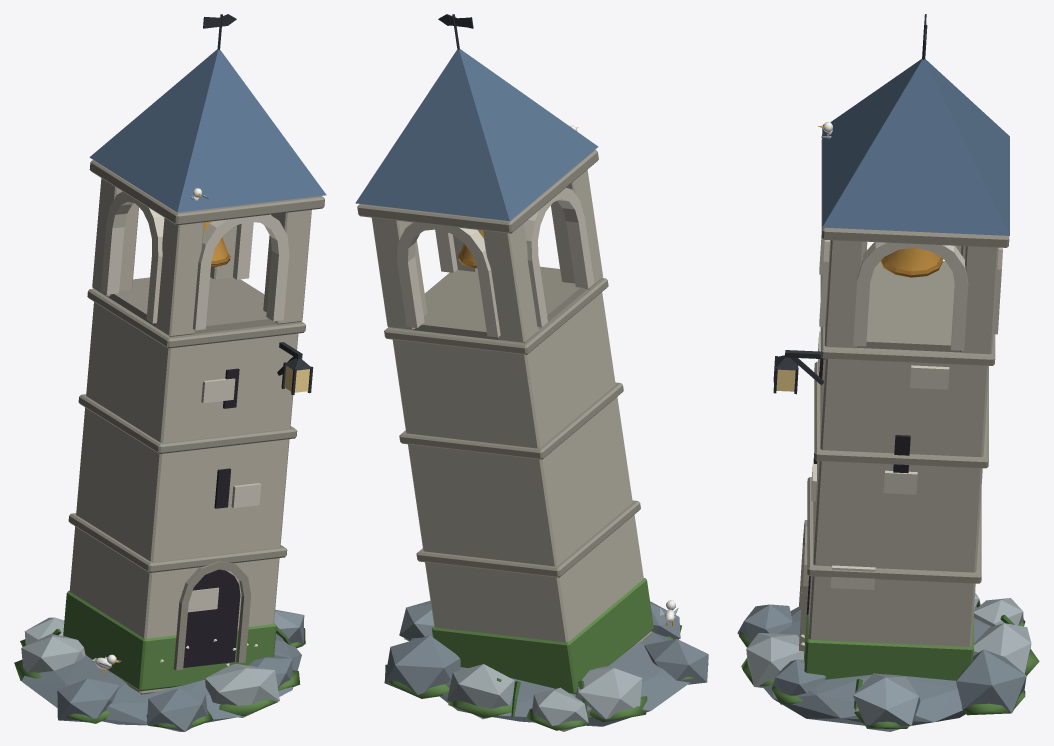
Rendered from bell_tower.glb.
The picture shows the model from 3 angles, left to right: view 1: azimuth 30°, elevation 25°; view 2: azimuth 150°, elevation 25°; view 3: azimuth 270°, elevation 25°; orthographic projection. The views are drawn at different scales.
Parts seen in each view (by area): view 1: bell_tower; view 2: bell_tower; view 3: bell_tower.
Part boxes in pixels (x1,y1,x2,y2): bell_tower: (14,14,326,731); bell_tower: (355,14,708,731); bell_tower: (737,14,1039,731).
Size of the model in its own units: 3.1 by 7.08 by 2.77.
